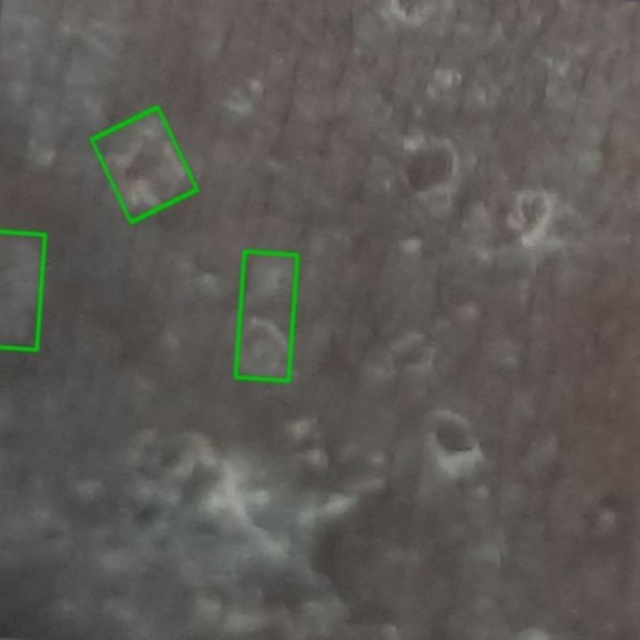Eczema: (91, 107, 197, 222), (235, 251, 297, 380), (0, 231, 45, 349)
